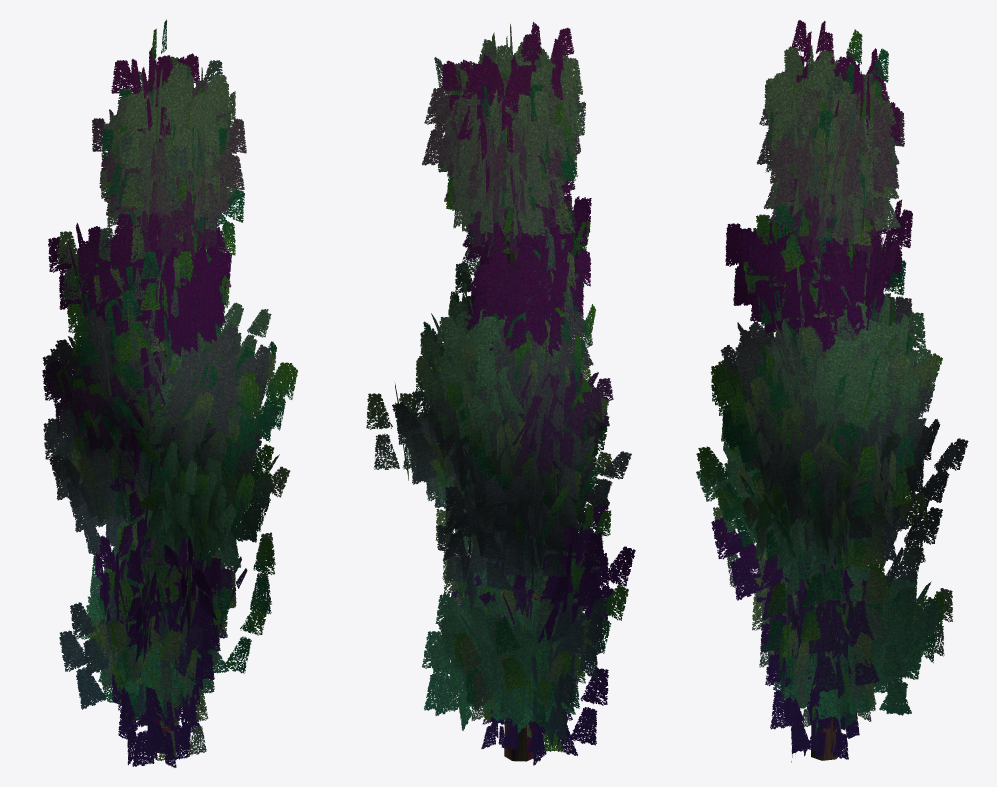
File: nat_cypress_a_LOD0.glb
The picture shows the model from 3 angles, left to right: view 1: azimuth 30°, elevation 25°; view 2: azimuth 150°, elevation 25°; view 3: azimuth 270°, elevation 25°; orthographic projection. The views are drawn at different scales.
Visible parts, largest first — view 1: nat_cypress_a_LOD0; view 2: nat_cypress_a_LOD0; view 3: nat_cypress_a_LOD0.
Boxes of the visible parts, x1=… form: nat_cypress_a_LOD0: x1=42, y1=19, x2=297, y2=767; nat_cypress_a_LOD0: x1=366, y1=22, x2=635, y2=765; nat_cypress_a_LOD0: x1=696, y1=20, x2=968, y2=762.
Size of the model in its own units: 3.34 by 9.41 by 3.48.
Materials: 2 (2 with a texture image).
